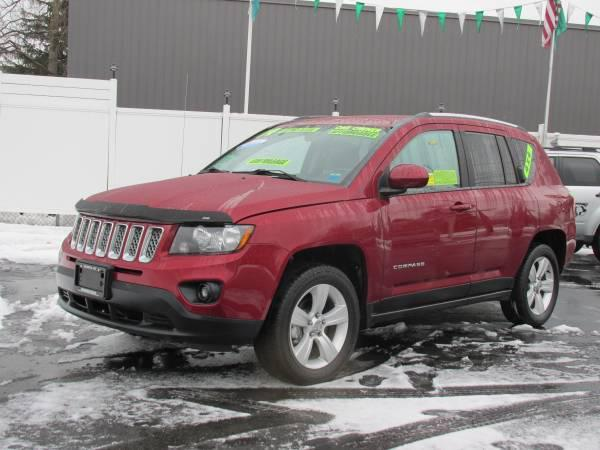Front_Bumper: (51, 244, 289, 350)
Front_Fender: (236, 199, 381, 325)
Front_Left_Door: (375, 188, 471, 317)
Front_Left_Window: (375, 125, 470, 199)
Front_Windshield: (200, 126, 390, 188)
Grille: (64, 213, 175, 266)
Hood: (70, 175, 367, 228)
Left_Headlight: (161, 225, 252, 260)
Rear_Bumper: (567, 236, 577, 262)
Rear_Fender: (506, 136, 576, 239)
Rear_Left_Door: (467, 186, 540, 302)
Rear_Left_Window: (458, 128, 526, 190)
Roof: (278, 112, 537, 194)
Wheel: (259, 259, 364, 386), (499, 245, 562, 326)
